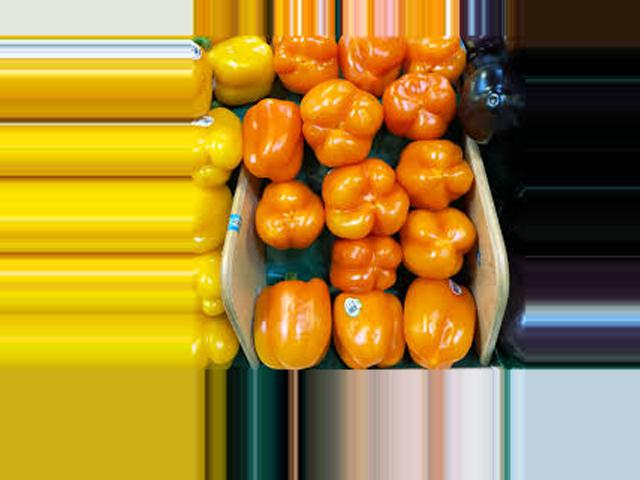bell_pepper: (197, 103, 239, 196)
